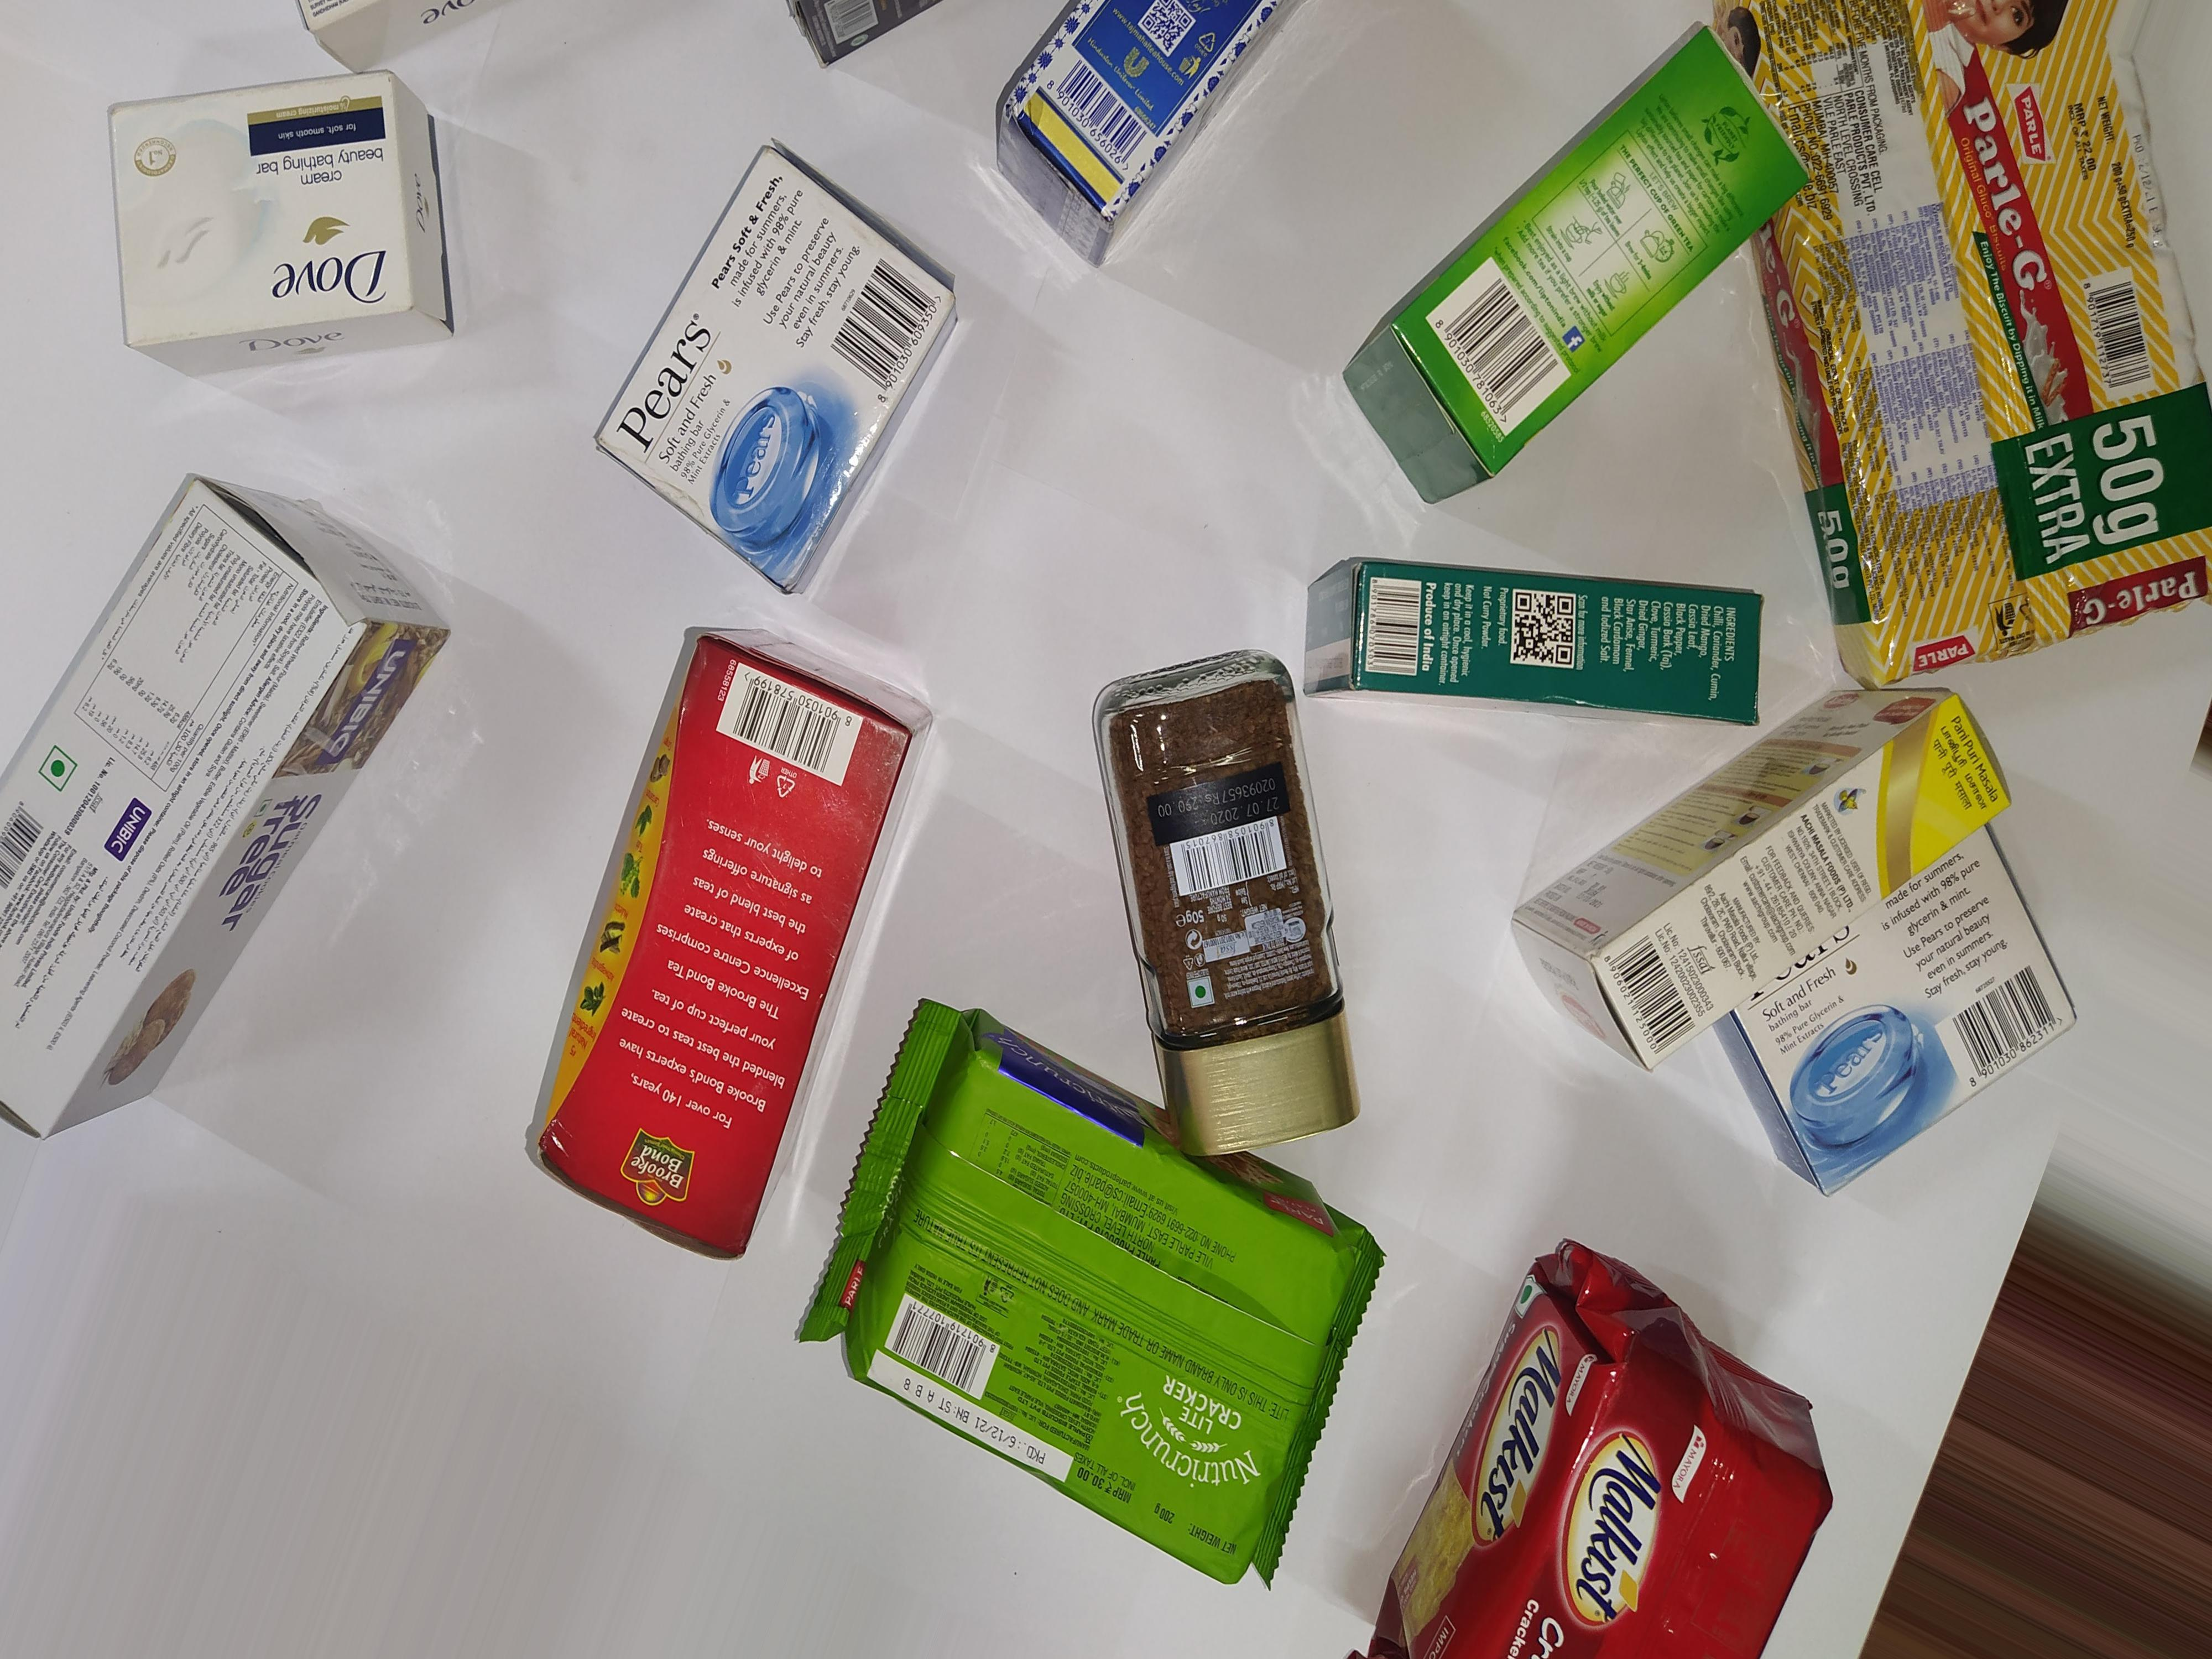Bar_code: (1414, 260, 1575, 437), (709, 643, 883, 789), (1033, 42, 1179, 190), (1930, 957, 2078, 1091), (812, 260, 953, 399), (880, 1281, 1019, 1405), (1594, 932, 1716, 1068), (2076, 260, 2182, 411), (1160, 814, 1312, 896), (5, 800, 47, 906), (812, 0, 881, 52)
Item: (1669, 0, 2200, 694), (810, 997, 1379, 1615), (0, 455, 460, 1195), (1324, 26, 1806, 511), (573, 598, 890, 1297), (1409, 1199, 1864, 1659), (573, 136, 986, 617), (1047, 638, 1378, 1185), (1507, 720, 2024, 1006), (59, 63, 475, 396), (1705, 864, 2094, 1215), (1268, 535, 1787, 751), (949, 0, 1325, 291)
QR_code: (1503, 579, 1599, 683), (1127, 0, 1202, 66)
